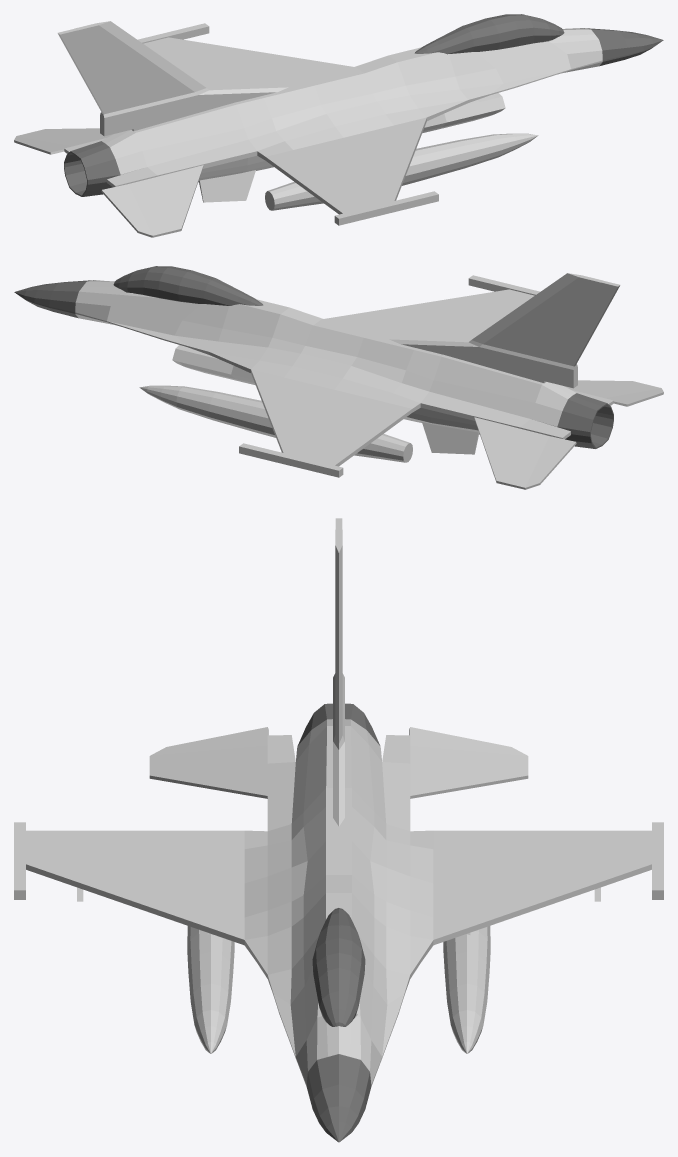
Rendered from falcon.obj.
3 renders of one model, top to bottom at view 1: azimuth 30°, elevation 25°; view 2: azimuth 150°, elevation 25°; view 3: azimuth 270°, elevation 25°, orthographic. The views are drawn at different scales.
Visible parts, largest first — view 1: Airframe_Cube, Elevator_Cube.002, Cannopy_Sphere, Rudder_Cube.001, RightFlap_Cube.005; view 2: Airframe_Cube, Elevator_Cube.002, Cannopy_Sphere, Rudder_Cube.001, LeftFlap_Cube.003; view 3: Airframe_Cube, Elevator_Cube.002, Cannopy_Sphere, LeftFlap_Cube.003, RightFlap_Cube.005.
Part boxes in pixels (bbox=[...]): Airframe_Cube: bbox=[64, 21, 663, 225]; Elevator_Cube.002: bbox=[14, 128, 203, 237]; Cannopy_Sphere: bbox=[414, 14, 564, 54]; Rudder_Cube.001: bbox=[57, 28, 132, 114]; RightFlap_Cube.005: bbox=[265, 150, 335, 201]; Airframe_Cube: bbox=[14, 273, 613, 477]; Elevator_Cube.002: bbox=[474, 380, 663, 489]; Cannopy_Sphere: bbox=[113, 266, 263, 305]; Rudder_Cube.001: bbox=[545, 280, 620, 366]; LeftFlap_Cube.003: bbox=[342, 402, 412, 453]; Airframe_Cube: bbox=[14, 529, 663, 1142]; Elevator_Cube.002: bbox=[149, 727, 528, 798]; Cannopy_Sphere: bbox=[312, 908, 365, 1026]; LeftFlap_Cube.003: bbox=[433, 830, 590, 849]; RightFlap_Cube.005: bbox=[87, 830, 244, 849].
Bounding box in the file's own units: 15.69 × 4.94 × 10.5.
